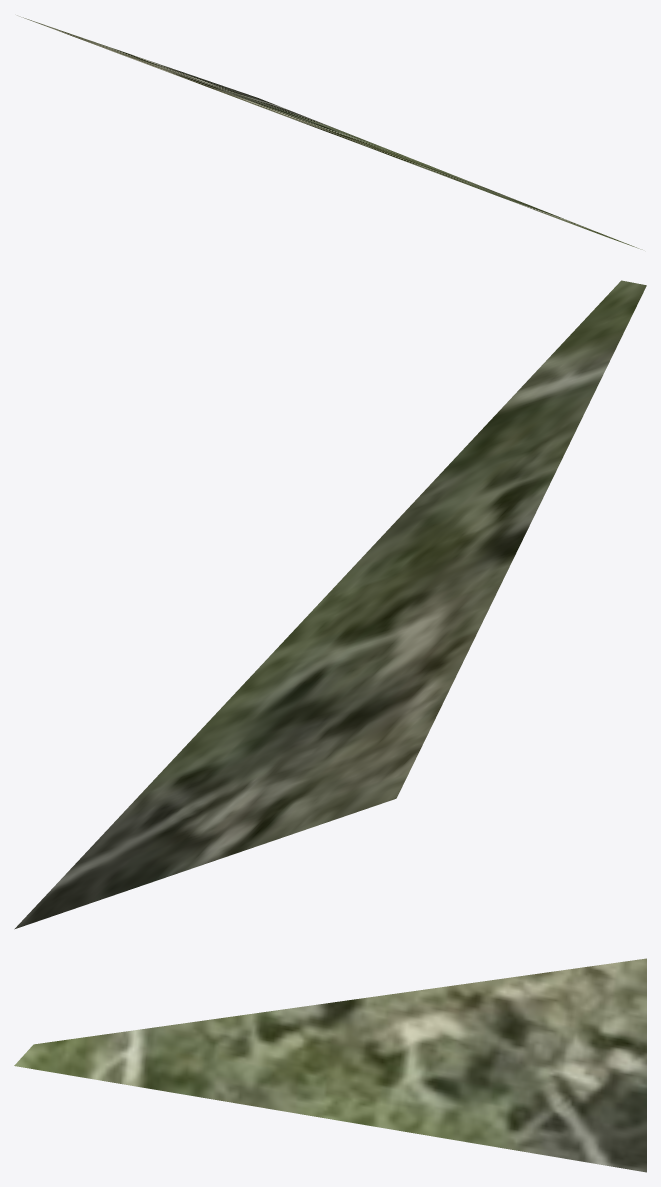
The picture shows the model from 3 angles, top to bottom: view 1: azimuth 30°, elevation 25°; view 2: azimuth 150°, elevation 25°; view 3: azimuth 270°, elevation 25°; orthographic projection. The views are drawn at different scales.
Size of the model in its own units: 0.7517 by 0.421 by 2.07.
Materials: 1 (1 with a texture image).
